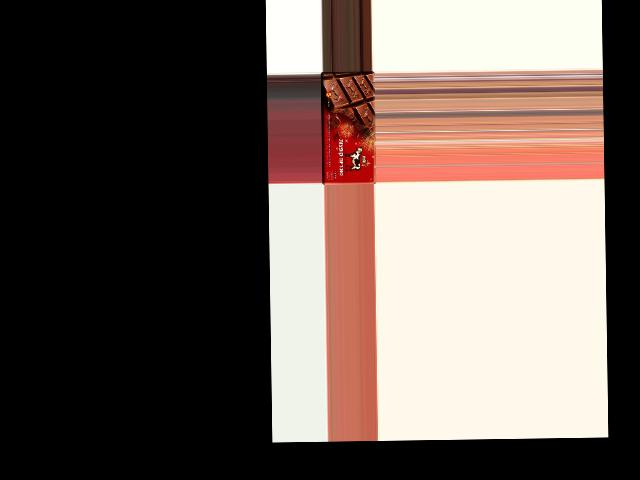chocolate: (320, 71, 375, 185)
